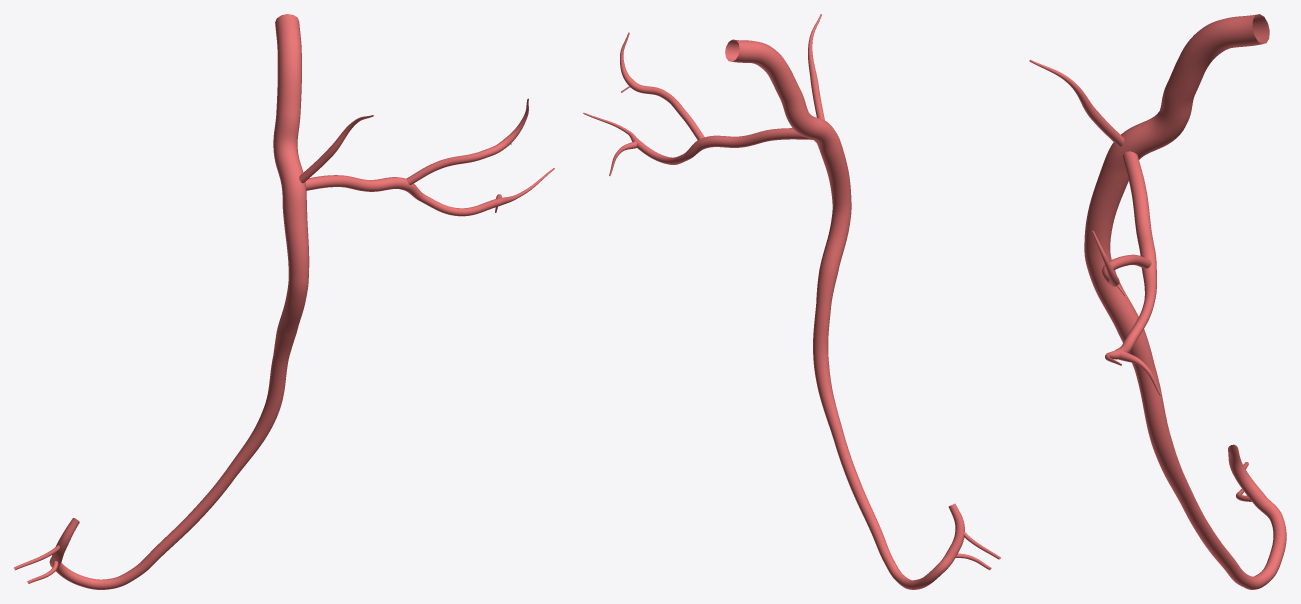
The model's file is Superior_mesenteric_artery.glb.
3 renders of one model, left to right at view 1: azimuth 30°, elevation 25°; view 2: azimuth 150°, elevation 25°; view 3: azimuth 270°, elevation 25°, orthographic. The views are drawn at different scales.
Visible parts, largest first — view 1: Superior_mesenteric_artery_BezierCurve.393; view 2: Superior_mesenteric_artery_BezierCurve.393; view 3: Superior_mesenteric_artery_BezierCurve.393.
Part boxes in pixels (<box>): Superior_mesenteric_artery_BezierCurve.393: <box>14,14,554,589</box>; Superior_mesenteric_artery_BezierCurve.393: <box>583,14,1000,589</box>; Superior_mesenteric_artery_BezierCurve.393: <box>1029,14,1286,589</box>.
Size of the model in its own units: 0.1404 by 0.1456 by 0.0497.
